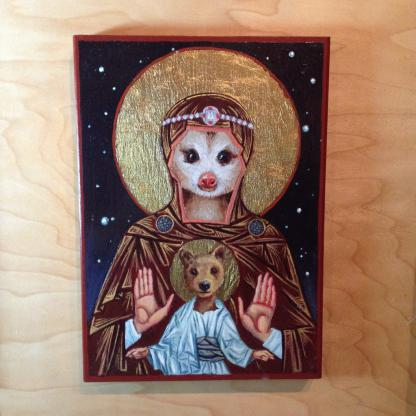Picture-frame: (77, 38, 335, 388)
